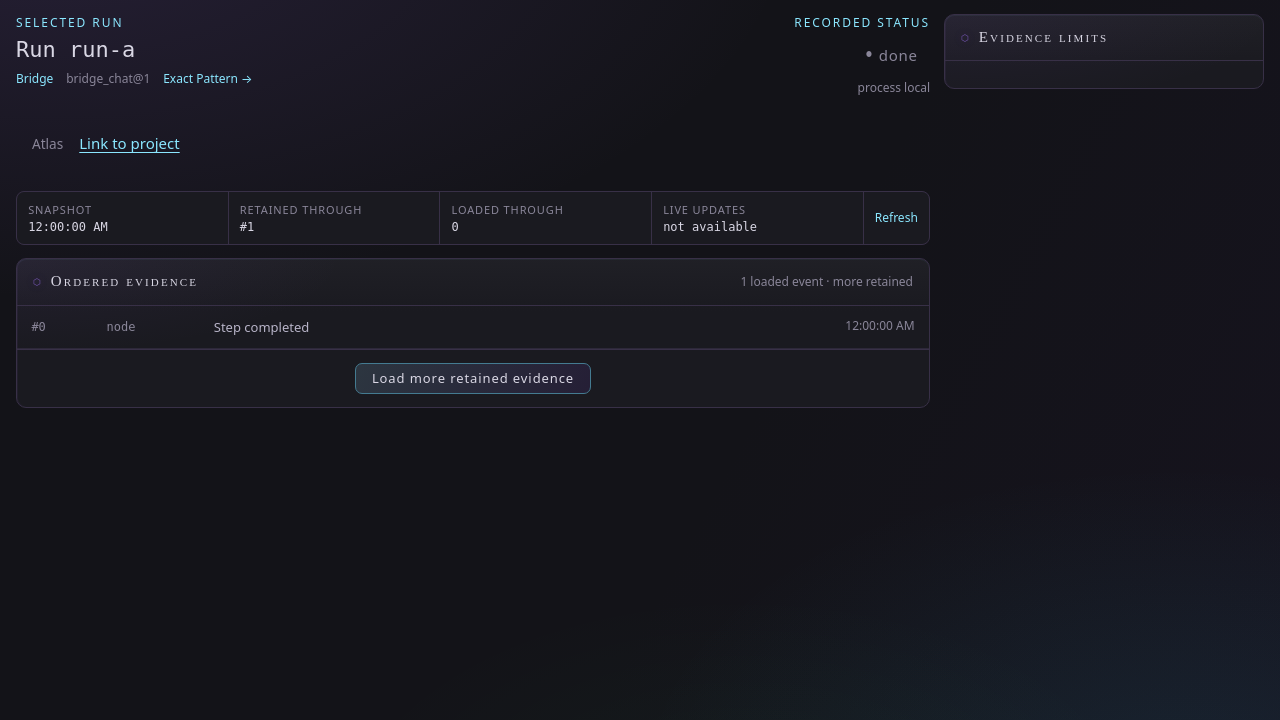
Test case: Orb evidence pagination › retains loaded evidence and offers a local retry when load more fails
The image size is (1280, 720).
Expected: the button "#0 node Step completed 12:00:00 AM" is shown, [17,306,929,349]
Click the button "Load more retained evidence". click: (473, 378)
box: [355,363,591,394]
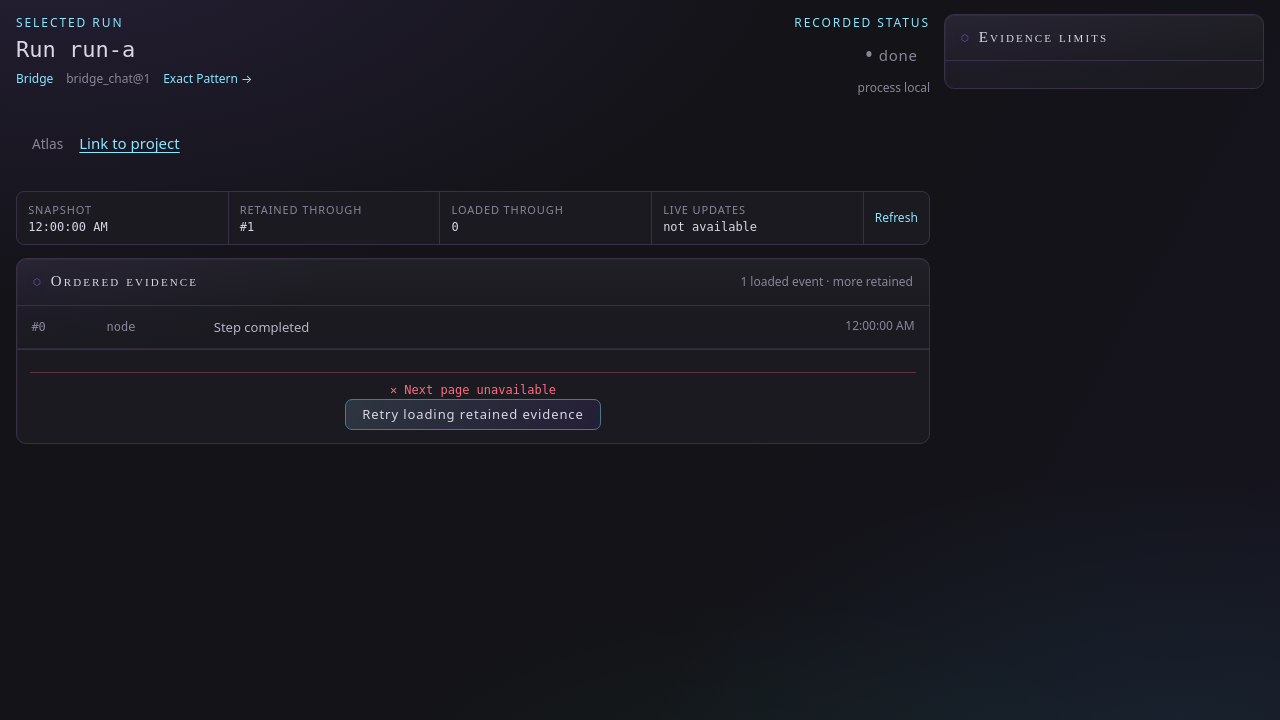
Expected: the button "#0 node Step completed 12:00:00 AM" is shown, [17,306,929,349]
Expected: the message reads "Next page unavailable", [404,383,556,397]
Click the button "Retry loading retained evidence". click: (473, 415)
box: [345,399,601,430]
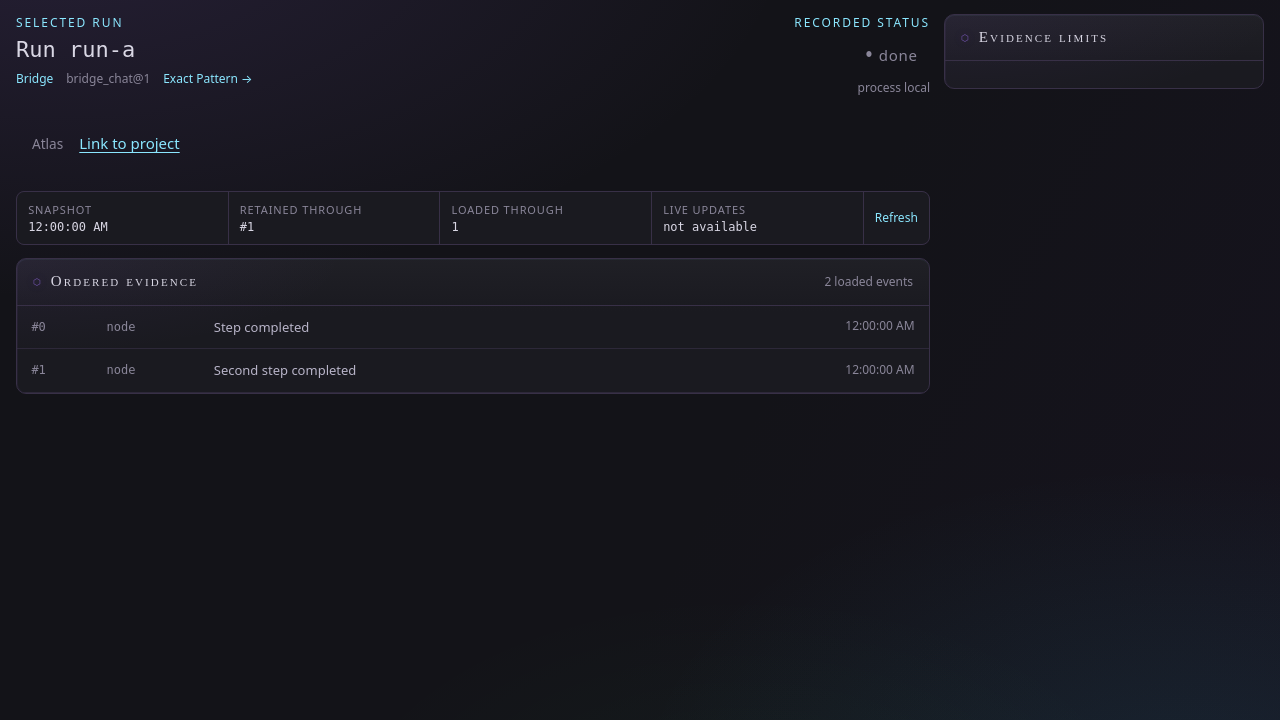
Expected: the button "#0 node Step completed 12:00:00 AM" is shown, [17,306,929,349]
Expected: the button "#1 node Second step completed 12:00:00 AM" is shown, [17,349,929,392]
Expected: the text "Next page unavailable" is gone
